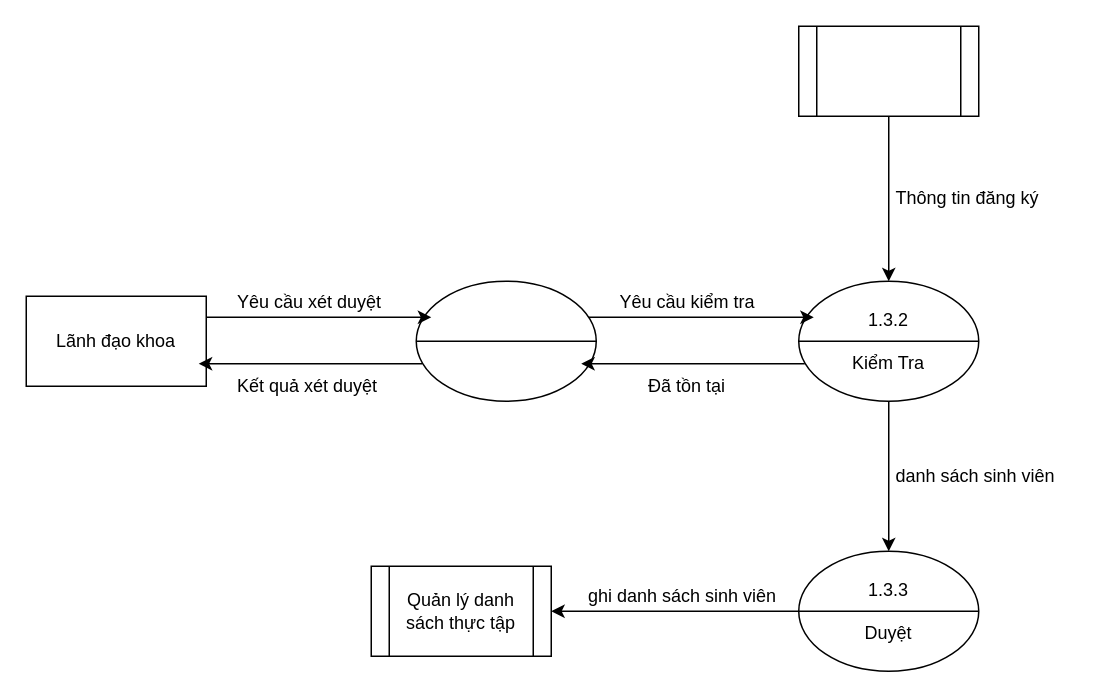
Some shapes in this 1100 by 698 pixel diagram are drawn without their labels. The centre of each missing label's shape, as x and y in pixels:
"1.3.1 Thực hiện xét duyệt" belongs at point (505, 340).
"Quản lý đăng ký" belongs at point (888, 70).
